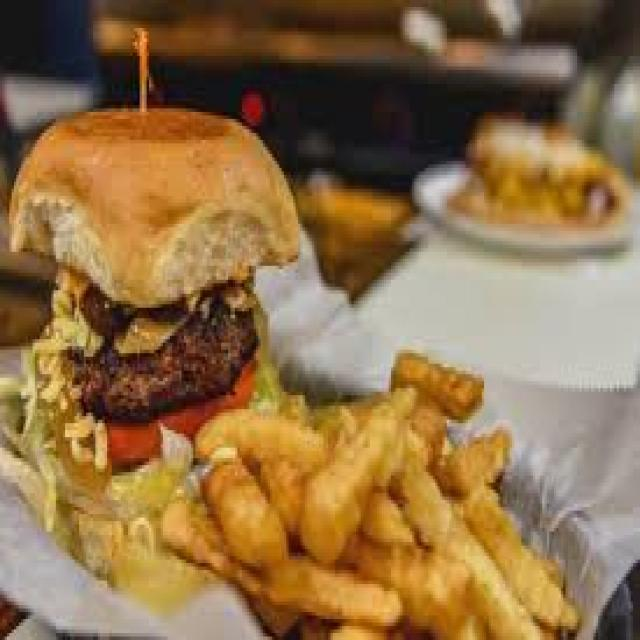Burger: (7, 84, 293, 546)
French Fries: (216, 346, 580, 637)
